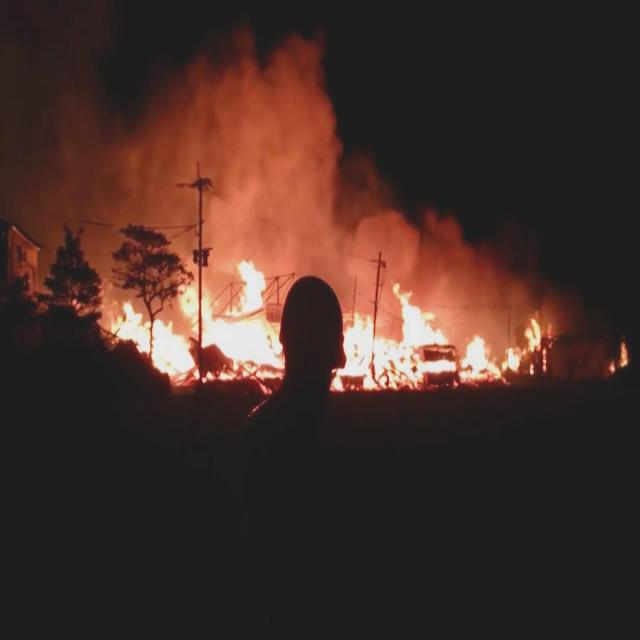Fire: (9, 31, 571, 346), (108, 258, 282, 377), (345, 281, 501, 389), (524, 318, 544, 350), (608, 343, 628, 372), (502, 348, 518, 371), (332, 374, 343, 391)
